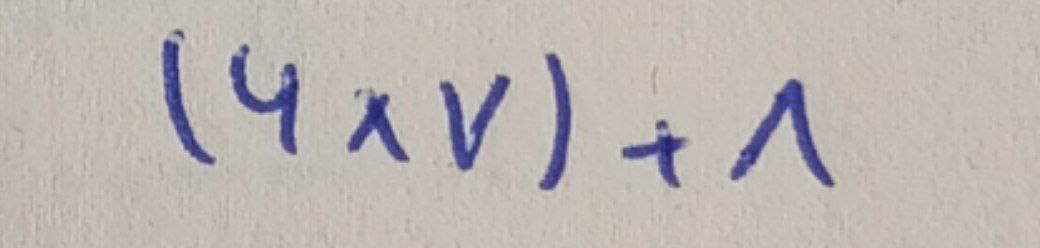character: (728, 72, 840, 193), (228, 37, 305, 162), (157, 23, 216, 166), (432, 72, 513, 174), (531, 49, 576, 194), (619, 114, 694, 196), (341, 84, 410, 166)
